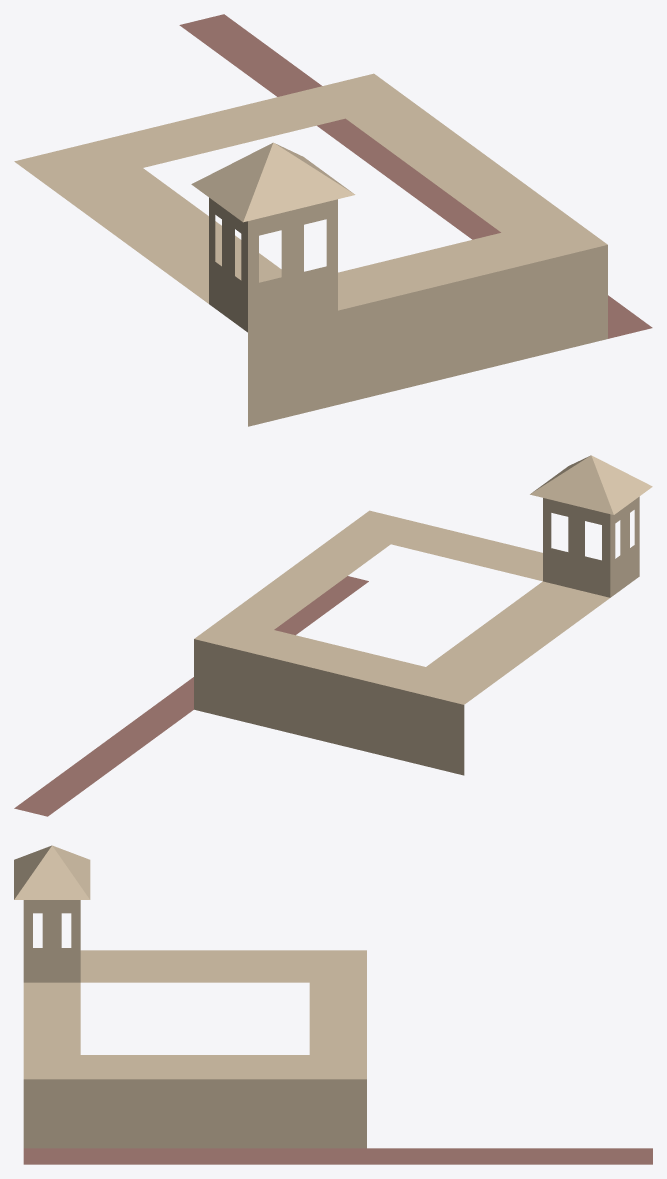
The model's file is ayuntamiento.glb.
3 views of the same model, one above another, from view 1: azimuth 30°, elevation 25°; view 2: azimuth 150°, elevation 25°; view 3: azimuth 270°, elevation 25° (orthographic). The views are drawn at different scales.
Visible parts, largest first — view 1: Plane, Tower; view 2: Plane, Tower; view 3: Plane, Tower.
Boxes of the visible parts, x1,y1,x2,y2 form: Plane: (14,14,652,426); Tower: (191,142,355,332); Plane: (14,510,609,816); Tower: (530,455,652,597); Plane: (23,950,652,1164); Tower: (14,845,90,982).
Size of what is drawn, in the model's own units: 37 by 22 by 67.
